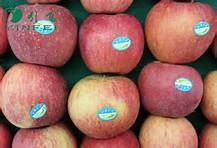apple: (68, 70, 141, 141), (145, 2, 217, 61), (10, 6, 80, 66), (0, 64, 67, 126), (74, 16, 142, 72)
